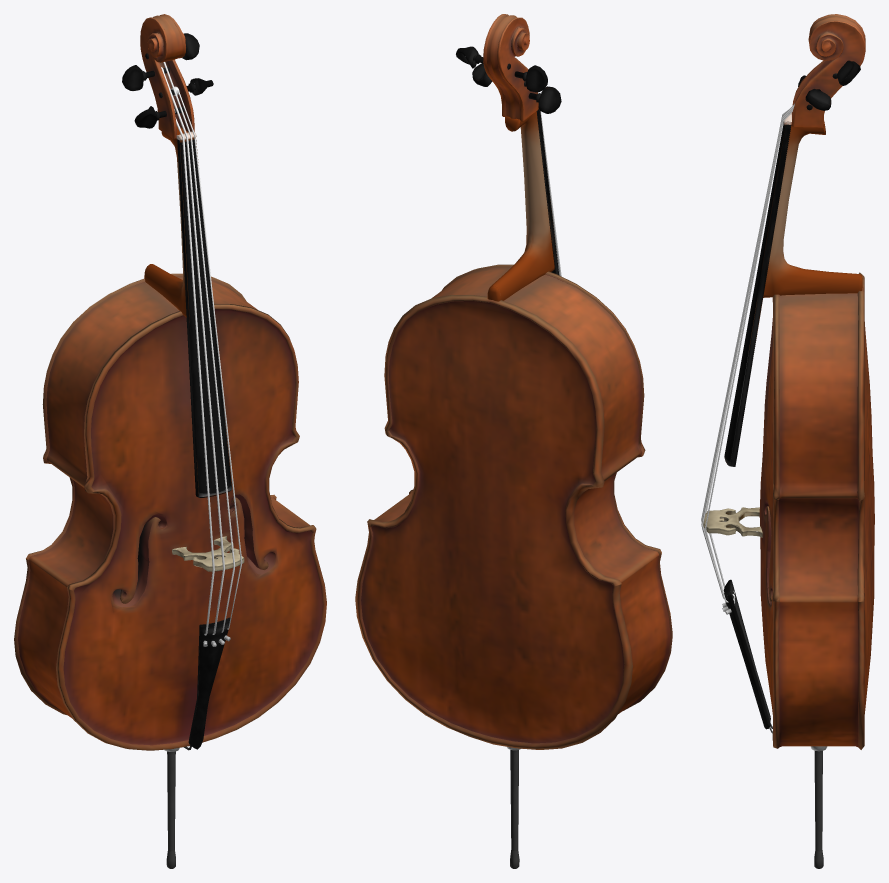
The model's file is cello-ece053.glb.
3 renders of one model, left to right at view 1: azimuth 30°, elevation 25°; view 2: azimuth 150°, elevation 25°; view 3: azimuth 270°, elevation 25°, orthographic.
Visible parts, largest first — view 1: PropMesh; view 2: PropMesh; view 3: PropMesh.
Boxes of the visible parts, box(x1,y1,x2,y2) form: PropMesh: box(14, 14, 326, 868); PropMesh: box(355, 14, 672, 868); PropMesh: box(701, 14, 874, 868).
Size of the model in its own units: 0.4762 by 1.4 by 0.26.
2 materials, 2 textured.
